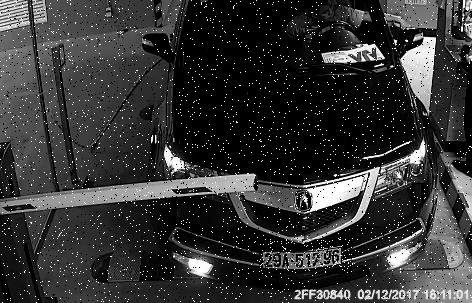License-plate: (261, 240, 355, 275)
